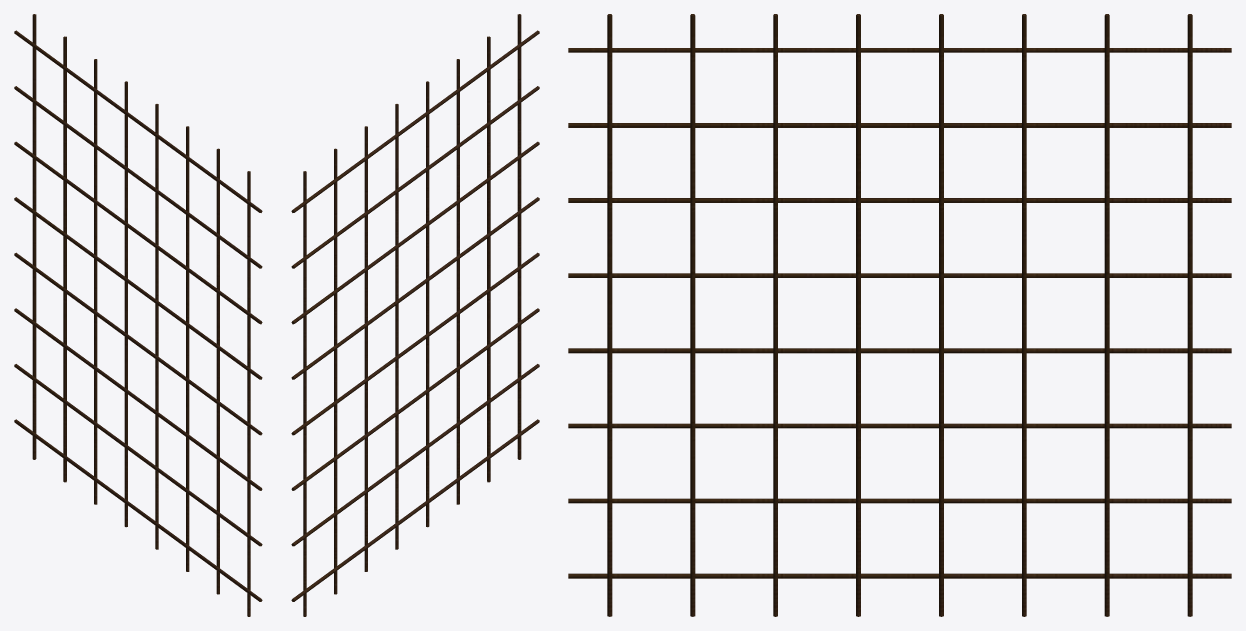
3 renders of one model, left to right at view 1: azimuth 30°, elevation 25°; view 2: azimuth 150°, elevation 25°; view 3: azimuth 270°, elevation 25°, orthographic. The views are drawn at different scales.
Parts seen in each view (by area): view 1: body0_model0_lod0_mesh0; view 2: body0_model0_lod0_mesh0; view 3: body0_model0_lod0_mesh0.
Part boxes in pixels (<box>): body0_model0_lod0_mesh0: <box>14,14,262,616</box>; body0_model0_lod0_mesh0: <box>291,14,539,616</box>; body0_model0_lod0_mesh0: <box>568,14,1231,616</box>.
Size of the model in its own units: 1.95 by 128 by 128.
Materials: 1 (1 with a texture image).
